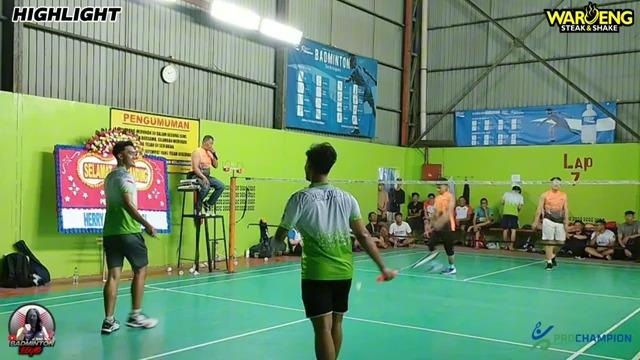Shuttlecock: (354, 282, 364, 295)
